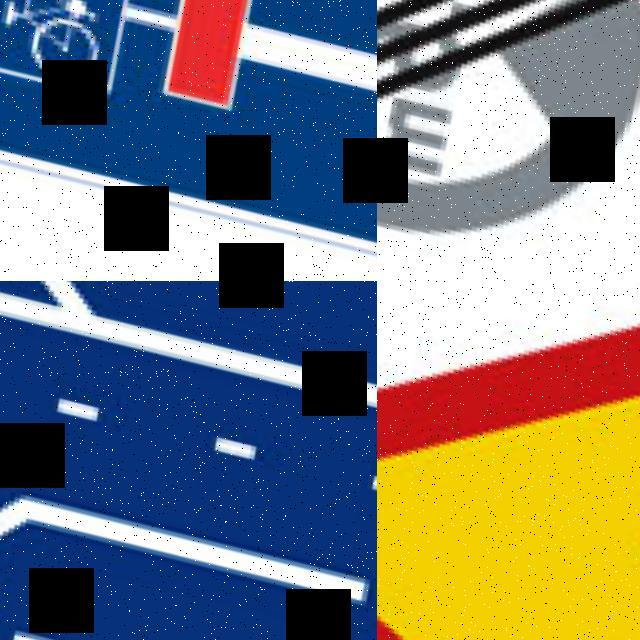111: (377, 0, 640, 281)
141: (377, 281, 640, 640)
65: (0, 281, 377, 640)
No entry for bicycles: (0, 0, 377, 281)
